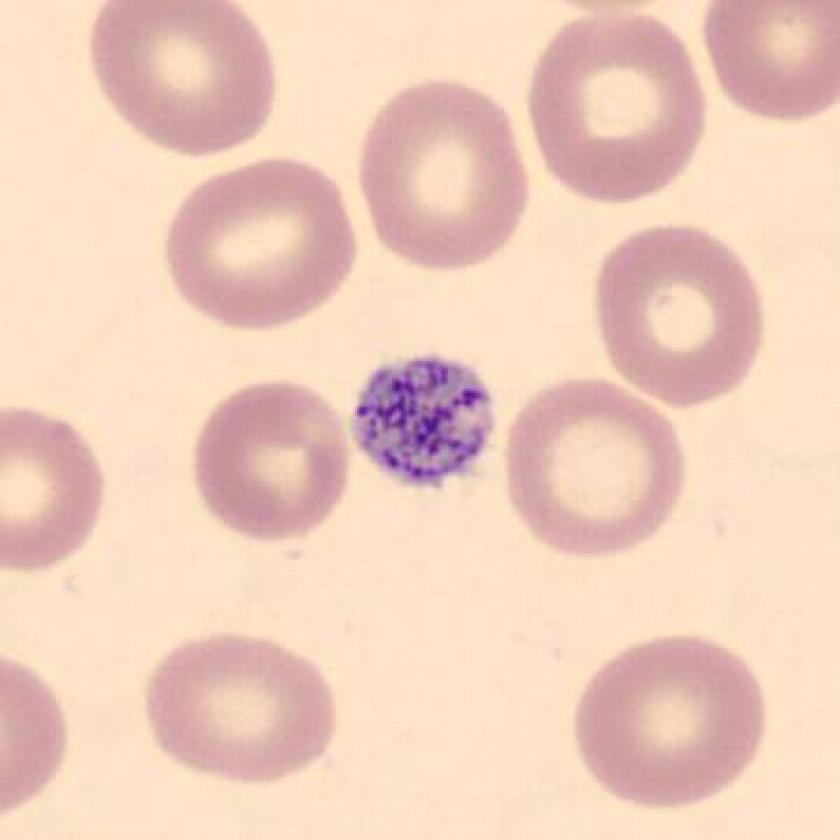platelets: (349, 346, 505, 496)
